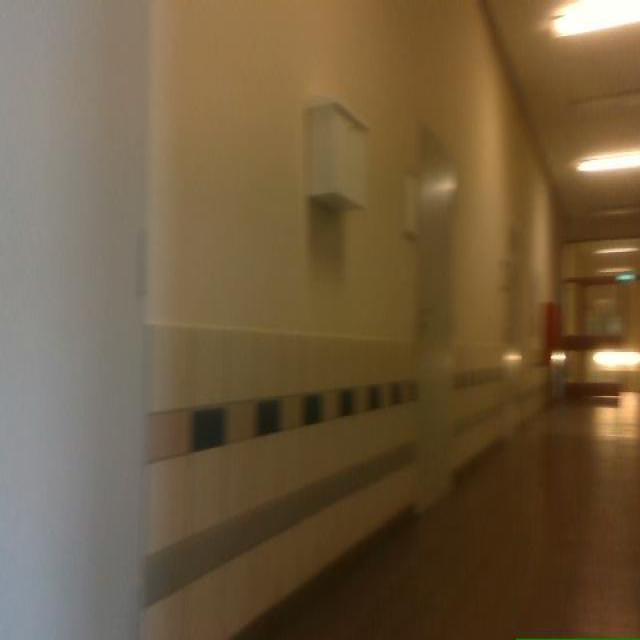objects: (305, 101, 368, 211)
